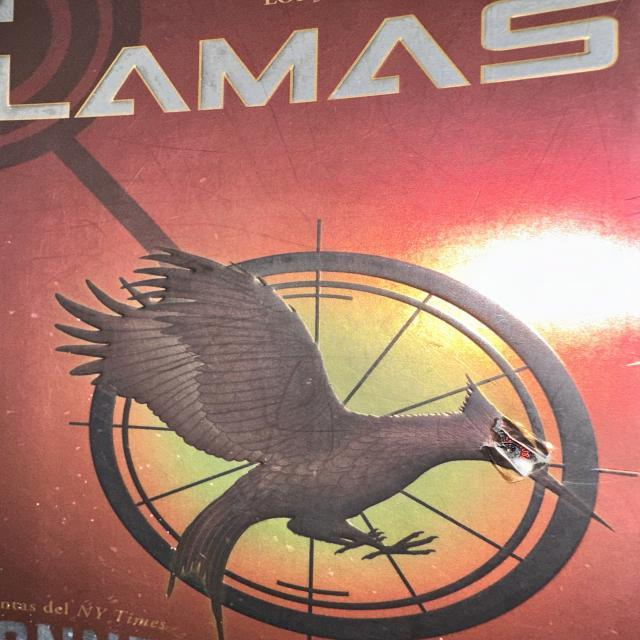hidden camera: (500, 441, 521, 457)
